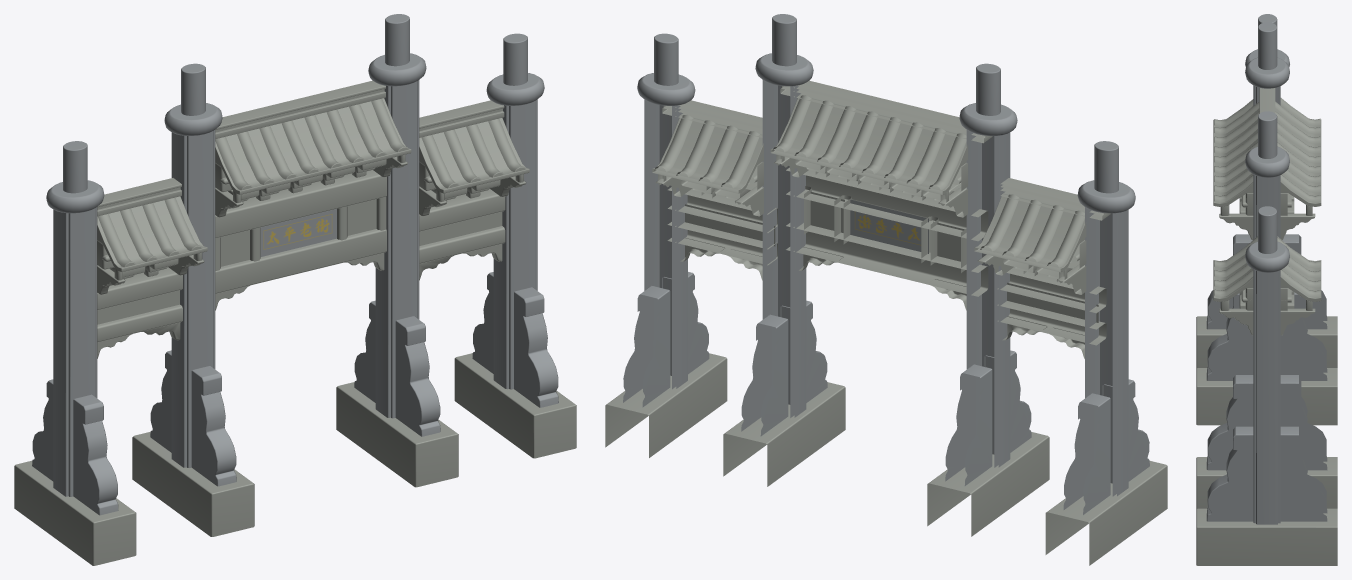
Rendered from TaiPingLaoJie.fbx.
3 renders of one model, left to right at view 1: azimuth 30°, elevation 25°; view 2: azimuth 150°, elevation 25°; view 3: azimuth 270°, elevation 25°, orthographic. The views are drawn at different scales.
Parts seen in each view (by area): view 1: TaiPingLaoJie; view 2: TaiPingLaoJie; view 3: TaiPingLaoJie.
Part boxes in pixels (x1,y1,x2,y2): TaiPingLaoJie: (14,14,576,565); TaiPingLaoJie: (605,14,1167,565); TaiPingLaoJie: (1196,14,1337,565).
Bounding box in the file's own units: 126 × 106 × 35.
Materials: 1 (1 with a texture image).
